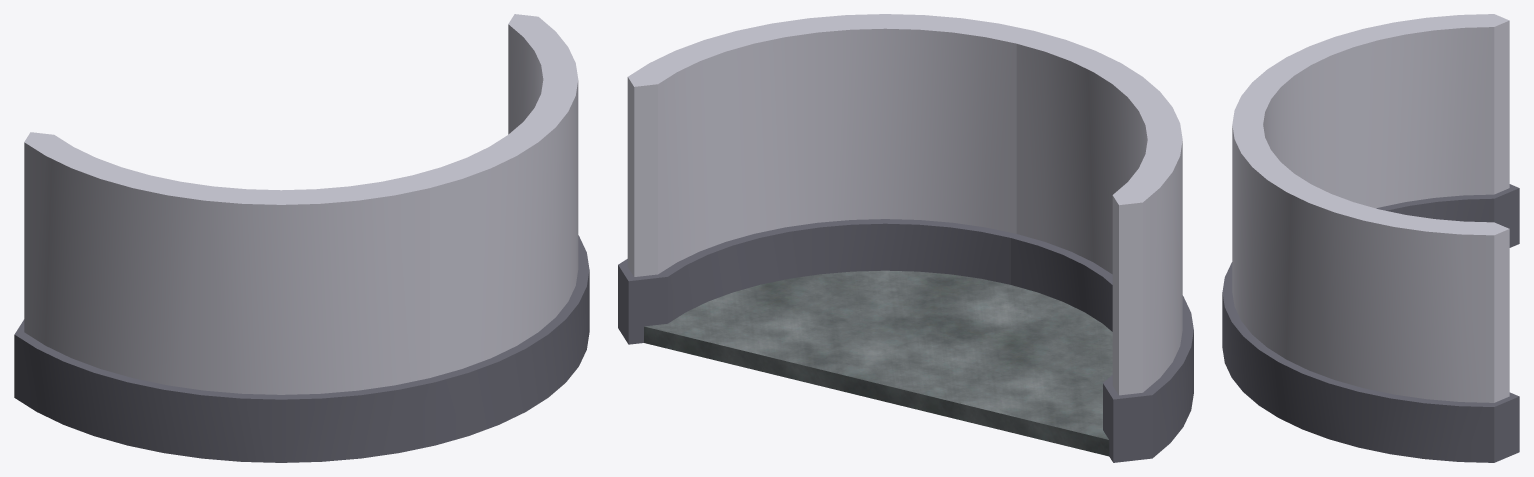
The model's file is hallway_end_03.fbx.
The picture shows the model from 3 angles, left to right: view 1: azimuth 30°, elevation 25°; view 2: azimuth 150°, elevation 25°; view 3: azimuth 270°, elevation 25°; orthographic projection. The views are drawn at different scales.
Parts seen in each view (by area): view 1: corner_03_86, corner_03_85; view 2: corner_03_85, corner_03_86, floor_08_84; view 3: corner_03_85, corner_03_86.
Part boxes in pixels (box(x1,y1,x2,y2)): corner_03_86: box(14, 132, 439, 462); corner_03_85: box(406, 14, 589, 445); corner_03_85: box(618, 14, 1039, 344); corner_03_86: box(1009, 31, 1193, 462); floor_08_84: box(644, 270, 1112, 456); corner_03_85: box(1222, 118, 1519, 462); corner_03_86: box(1222, 14, 1519, 291).
Size of the model in its own units: 22.05 by 10 by 12.05.
